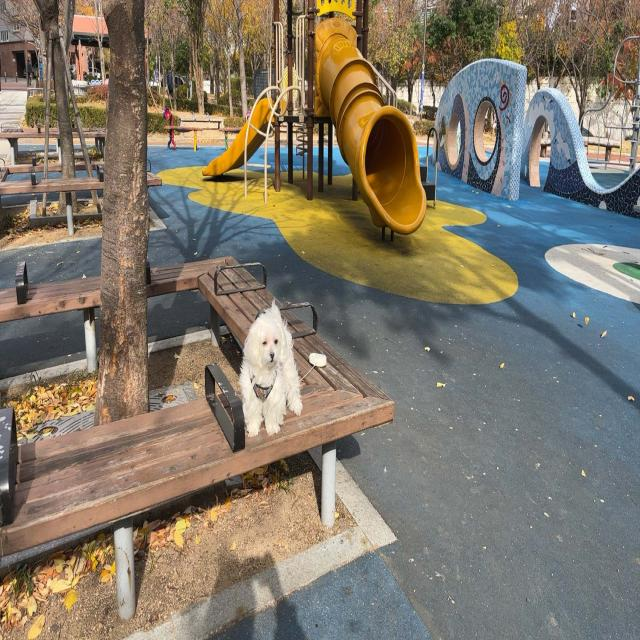Dog: (240, 299, 303, 439)
